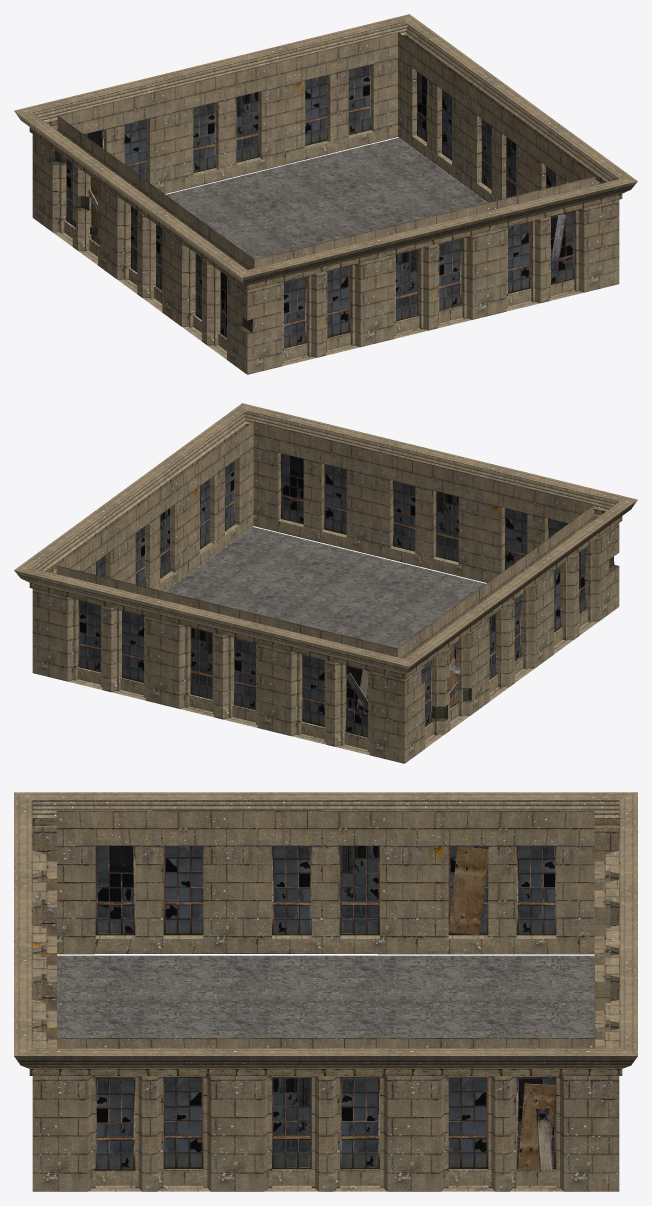
File: Build1_el2.fbx
3 renders of one model, top to bottom at view 1: azimuth 30°, elevation 25°; view 2: azimuth 150°, elevation 25°; view 3: azimuth 270°, elevation 25°, orthographic. The views are drawn at different scales.
Parts seen in each view (by area): view 1: 1_floor2; view 2: 1_floor2; view 3: 1_floor2.
Part boxes in pixels (<box>): 1_floor2: <box>14,14,637,374</box>; 1_floor2: <box>14,403,637,763</box>; 1_floor2: <box>14,792,637,1191</box>.
Bounding box in the file's own units: 15.05 × 4.01 × 15.05.
